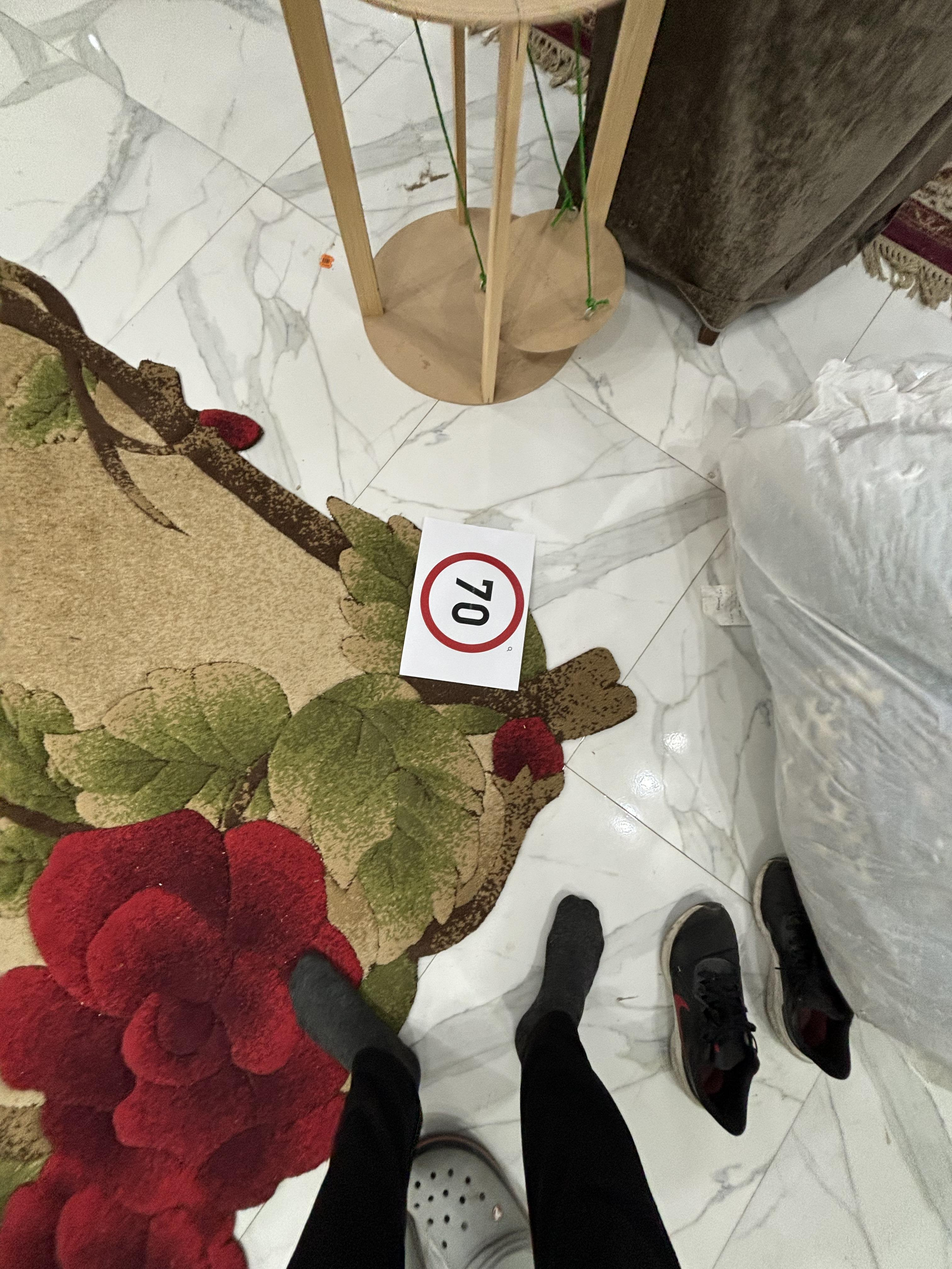70-Speed: (412, 543, 533, 654)
